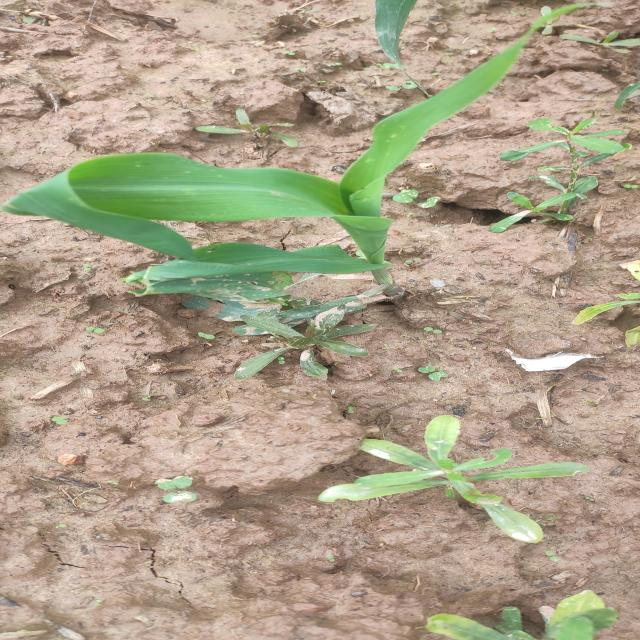maize: (97, 146, 500, 304)
weed: (347, 402, 640, 531), (187, 288, 361, 382)
